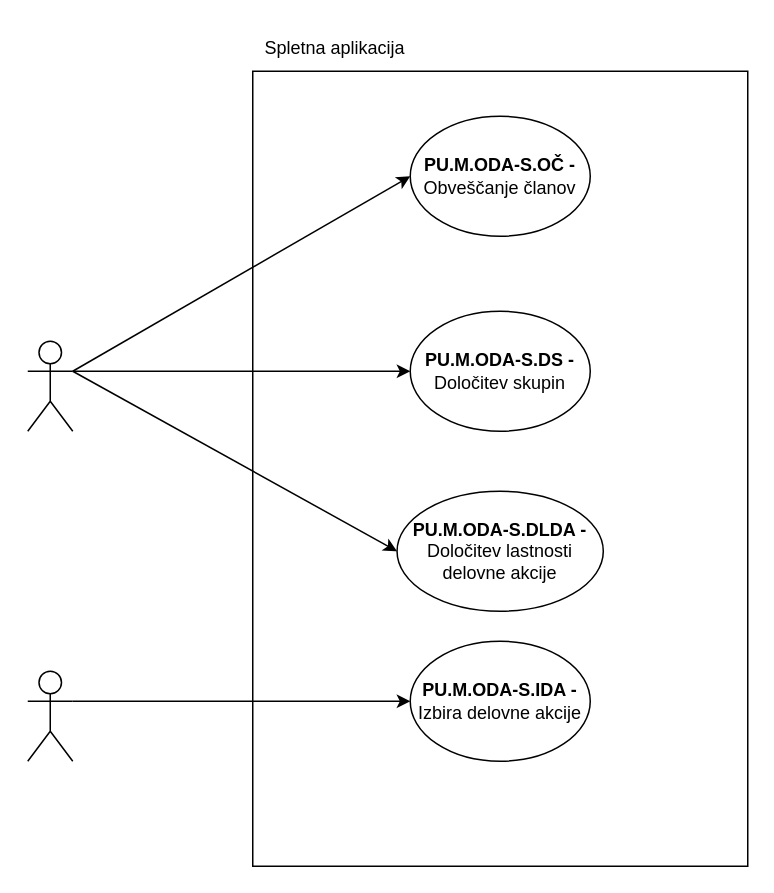
Some shapes in this 774 by 893 pixel diagram are drawn without their labels. Here are the shapes that lost their labels. From the top down, the centre of each, then its label:
At point 49,385: "Tajnik".
At point 49,715: "Lovec".
